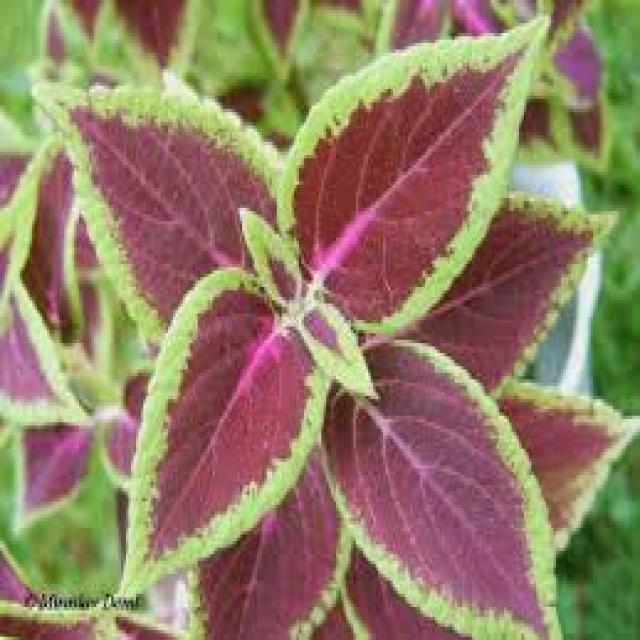Coleus: (15, 53, 625, 577)
